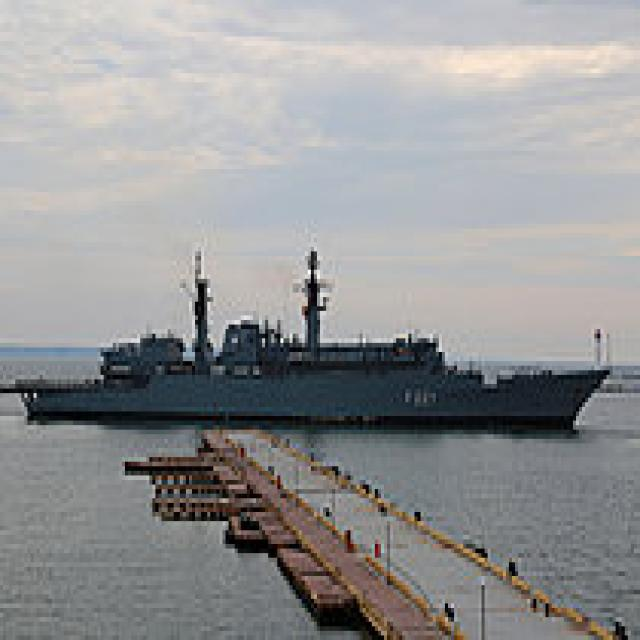Warship: (6, 238, 613, 430)
